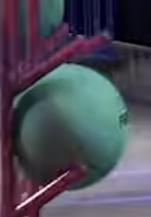algae: (13, 64, 129, 190), (21, 0, 65, 38)
